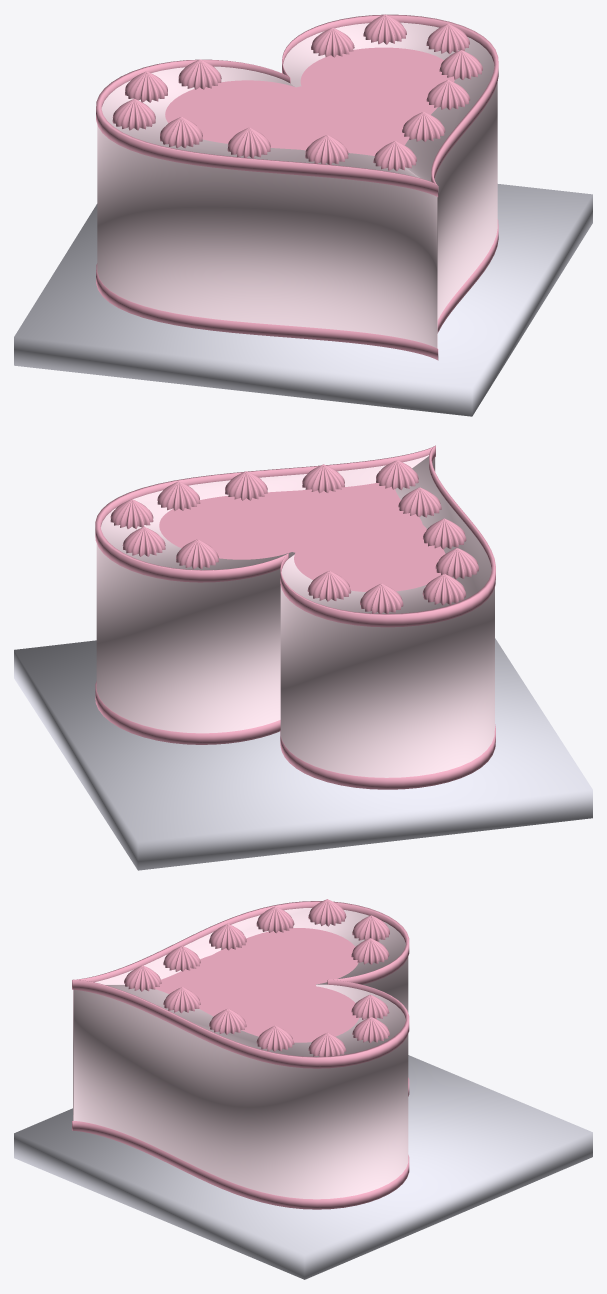
Rendered from heart_strawberry_style3.glb.
3 renders of one model, top to bottom at view 1: azimuth 30°, elevation 25°; view 2: azimuth 150°, elevation 25°; view 3: azimuth 270°, elevation 25°, orthographic. The views are drawn at different scales.
Parts seen in each view (by area): view 1: HeartCake, IcingStand, CakecolorCircle, IcingRing, CakeTopColor, IcingRing.001, design12, design9, design8, design10, design11, design7 (+7 smaller); view 2: HeartCake, IcingStand, CakecolorCircle, CakeTopColor, IcingRing, IcingRing.001, design12, design10, design9, design8, design11, design14 (+7 smaller); view 3: HeartCake, IcingStand, IcingRing, CakecolorCircle, CakeTopColor, IcingRing.001, design12, design9, design8, design10, design11, design4 (+7 smaller).
Part boxes in pixels (x1,y1,x2,y2): HeartCake: (97,22,497,348); IcingStand: (14,184,592,416); CakecolorCircle: (165,47,454,155); IcingRing: (96,14,498,196); CakeTopColor: (249,81,425,150); IcingRing.001: (96,219,498,360); design12: (112,98,155,130); design9: (160,117,202,148); design8: (227,127,270,158); design10: (125,71,167,102); design11: (178,59,221,89); design7: (305,135,348,164); HeartCake: (96,455,494,777); IcingStand: (14,638,592,870); CakecolorCircle: (159,483,445,591); CakeTopColor: (246,489,422,557); IcingRing: (95,445,495,627); IcingRing.001: (95,681,495,789); design12: (422,573,466,605); design10: (360,583,403,613); design9: (435,548,478,579); design8: (423,518,466,549); design11: (307,570,351,601); design14: (176,539,218,569); HeartCake: (73,908,408,1199); IcingStand: (14,1055,592,1279); IcingRing: (72,901,409,1068); CakecolorCircle: (155,928,358,1042); CakeTopColor: (178,950,315,1017); IcingRing.001: (72,1077,409,1209); design12: (308,899,346,926); design9: (256,906,294,933); design8: (209,924,246,950); design10: (352,915,389,941); design11: (351,938,389,964); design4: (256,1025,294,1051).
Size of the model in its own units: 4.24 by 1.56 by 4.24.
